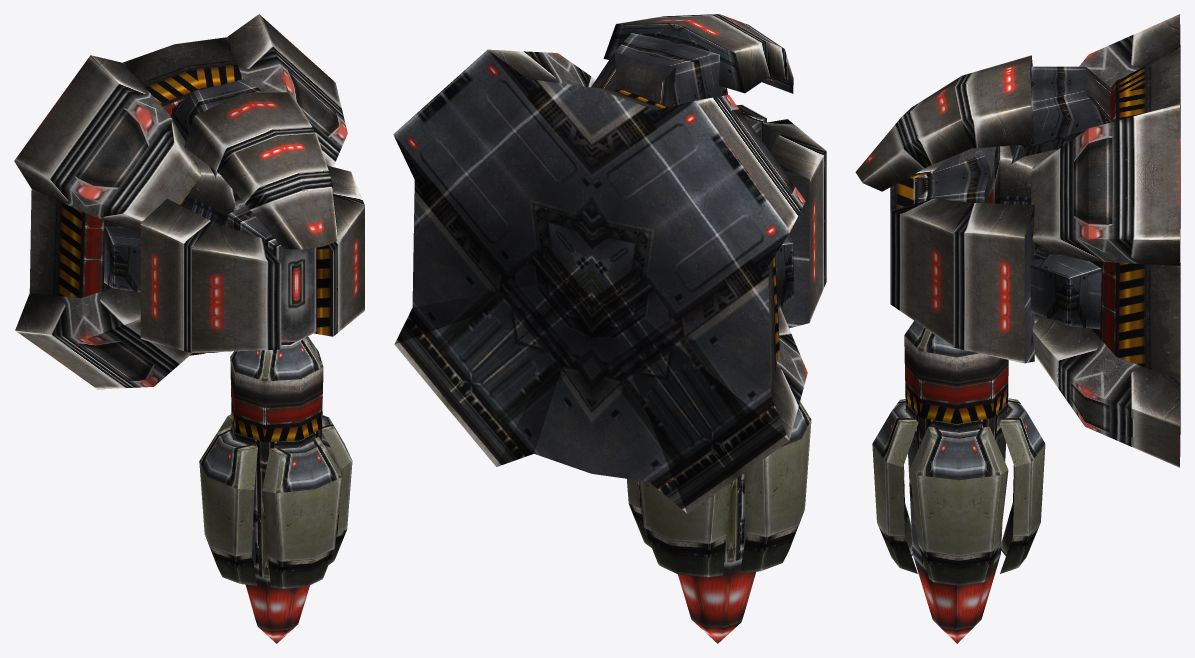
The model's file is flame-thrower-02.obj.
3 views of the same model, side by side, from view 1: azimuth 30°, elevation 25°; view 2: azimuth 150°, elevation 25°; view 3: azimuth 270°, elevation 25° (orthographic). The views are drawn at different scales.
Visible parts, largest first — view 1: body, head, gun_01; view 2: body, head, gun_01; view 3: body, head, gun_01.
Boxes of the visible parts, bbox=[...] form: body: bbox=[14, 14, 347, 389]; head: bbox=[140, 79, 364, 352]; gun_01: bbox=[199, 336, 352, 643]; body: bbox=[393, 49, 807, 513]; head: bbox=[591, 14, 826, 328]; gun_01: bbox=[627, 401, 811, 643]; body: bbox=[1030, 14, 1180, 467]; head: bbox=[855, 55, 1111, 363]; gun_01: bbox=[872, 321, 1045, 643].
Bounding box in the file's own units: 4.1 × 6.52 × 3.28.
1 material, 1 textured.
